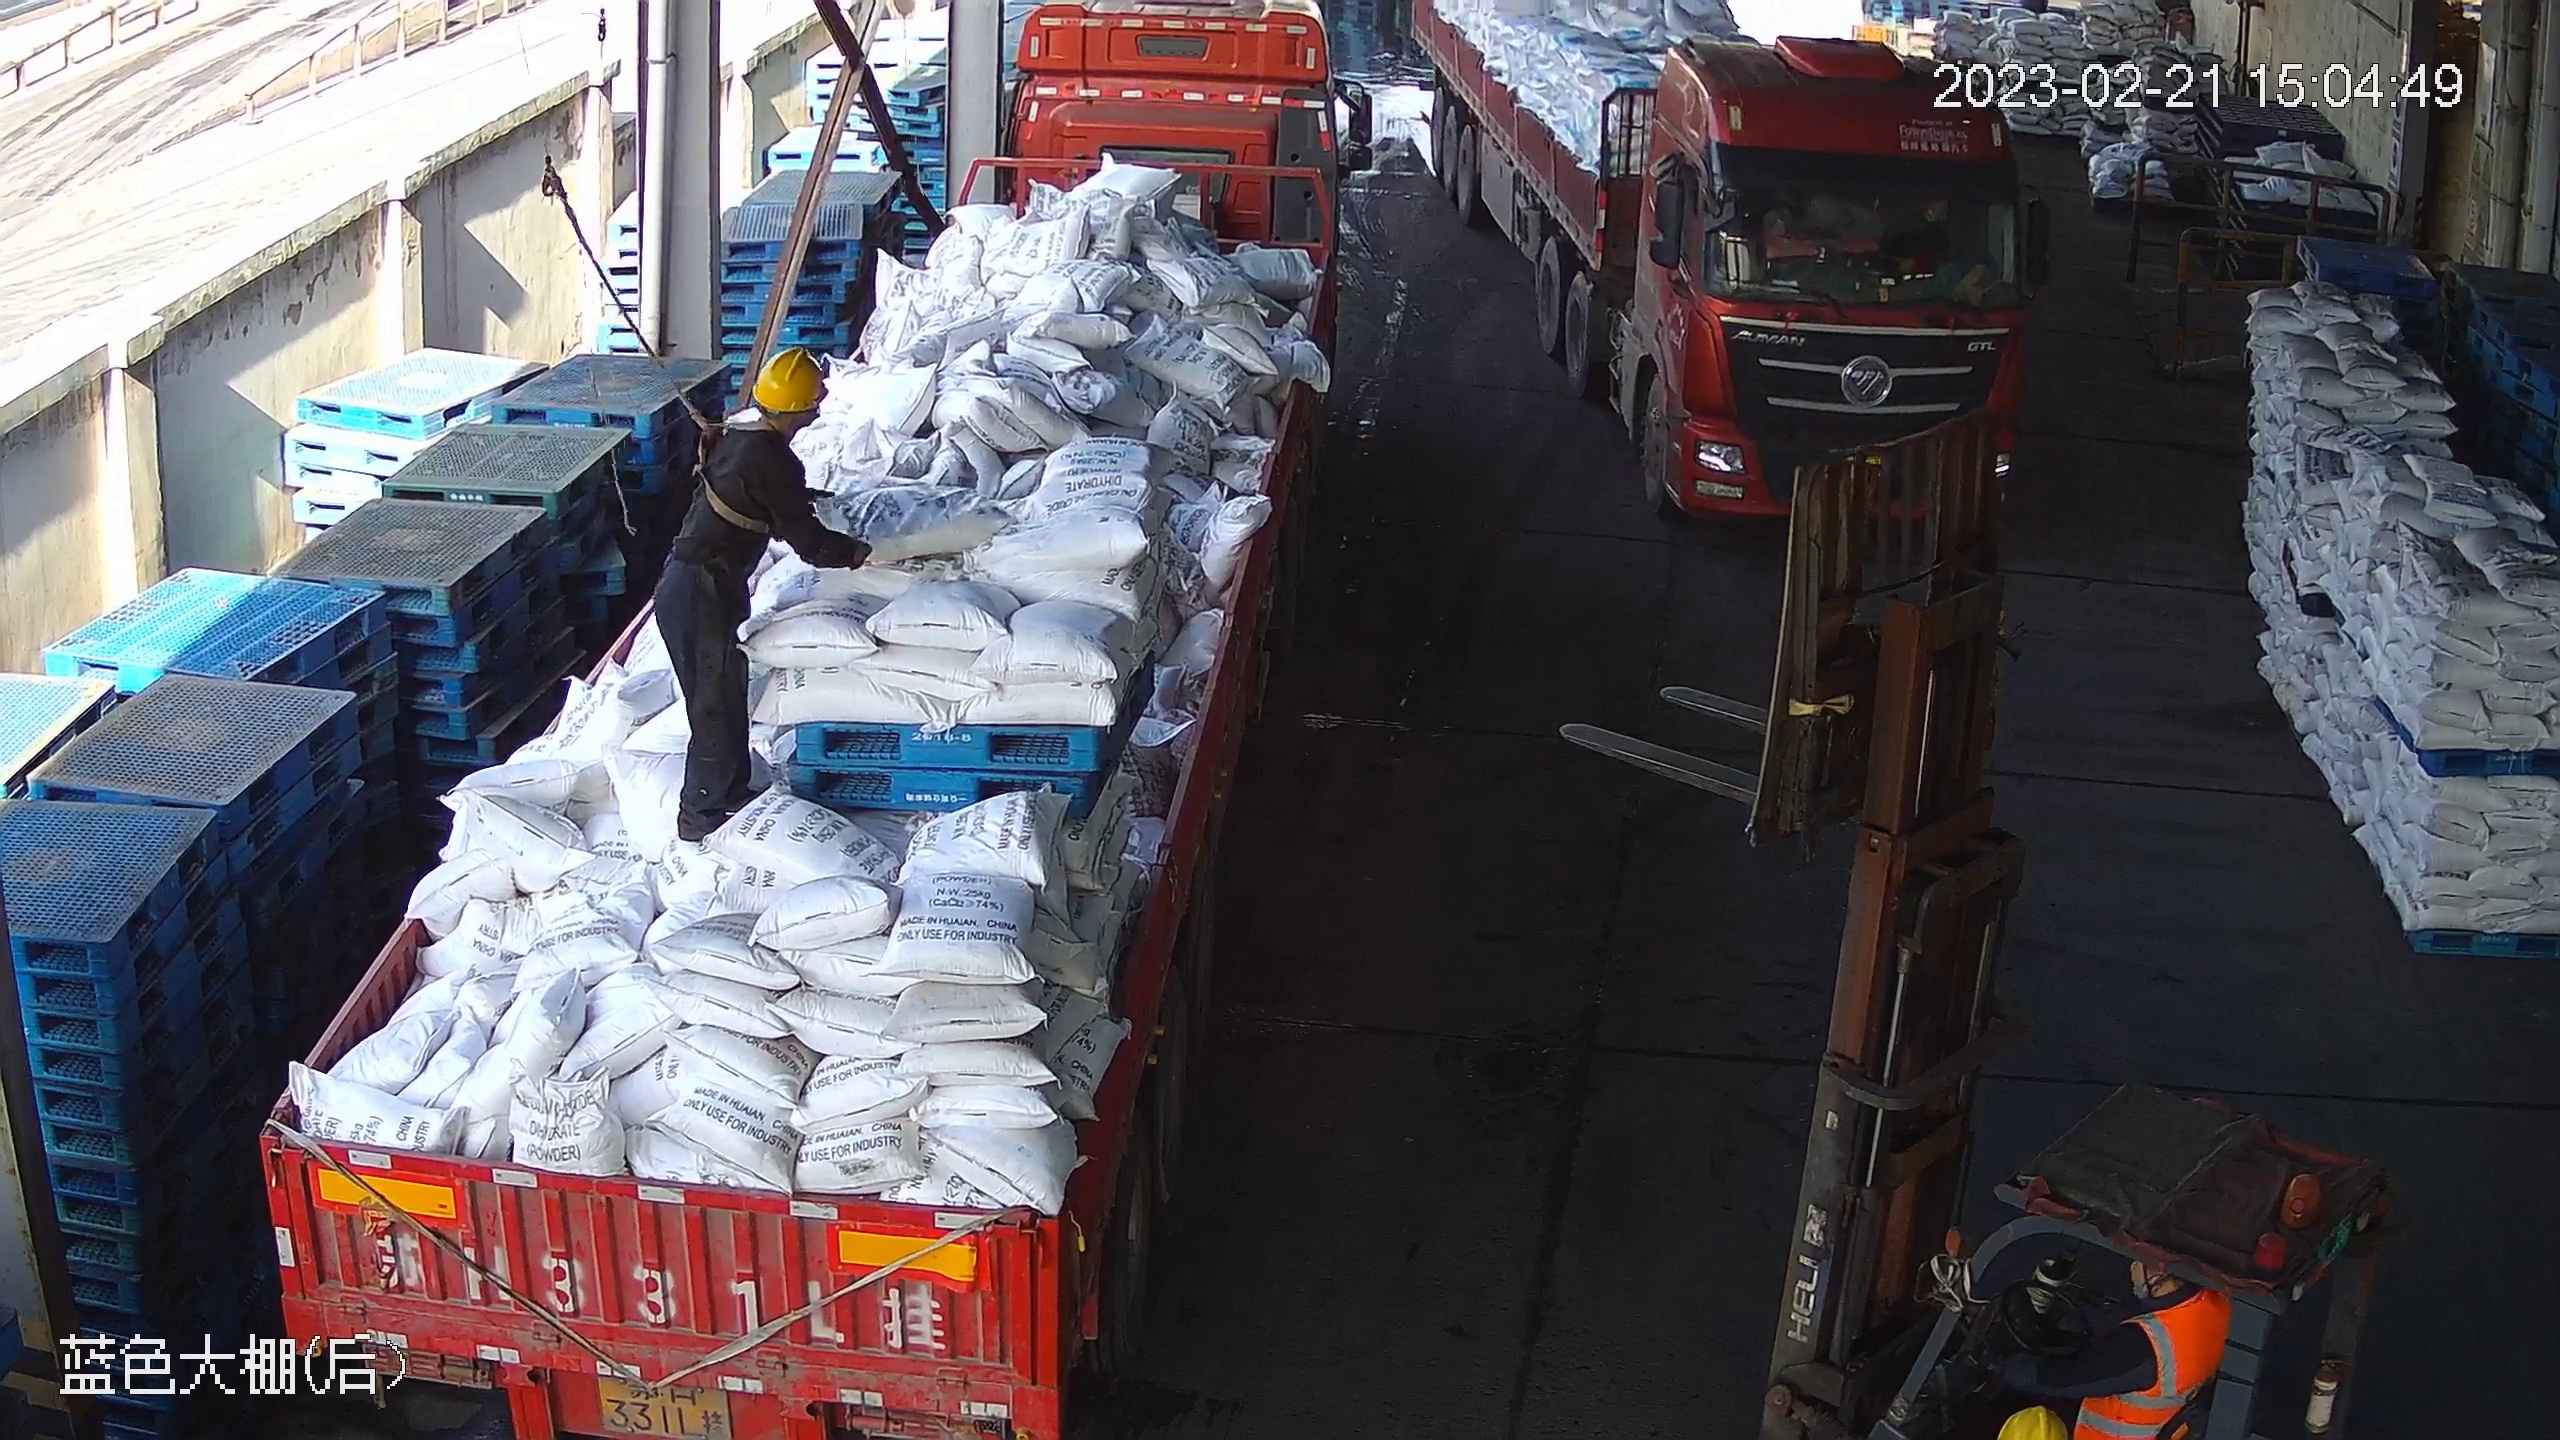belt: (684, 408, 778, 549)
head: (686, 343, 827, 553)
helmet: (752, 345, 828, 411), (1995, 1403, 2074, 1440)
people: (653, 343, 875, 843)
truck: (252, 1, 1378, 1437), (1405, 1, 2049, 533)
